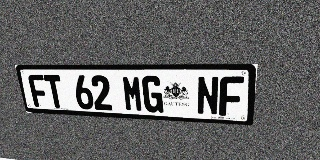2: (90, 75, 112, 110)
6: (72, 75, 95, 110)
F: (219, 76, 244, 117), (27, 75, 49, 107)
G: (141, 75, 163, 113)
M: (122, 75, 144, 112)
N: (197, 76, 219, 116)
T: (43, 75, 65, 108)
